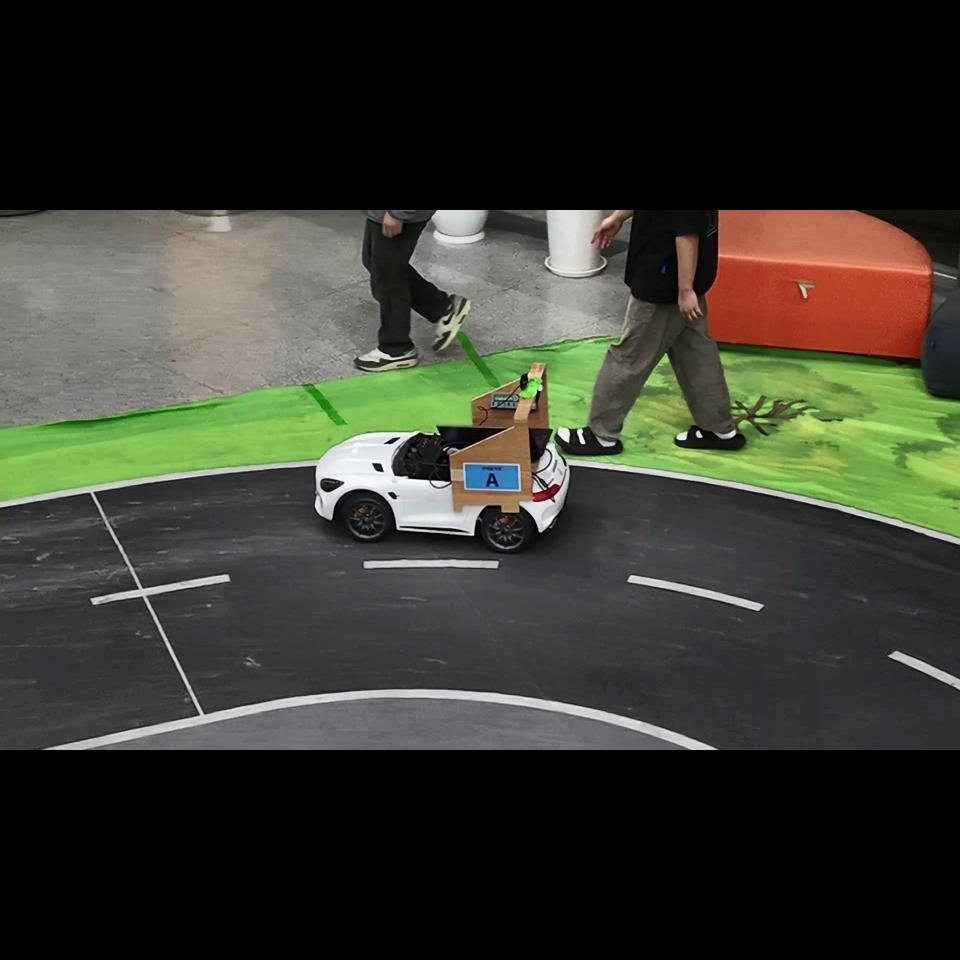broken_line: (627, 574, 765, 611), (90, 574, 232, 606), (887, 650, 960, 691), (363, 559, 499, 569)
